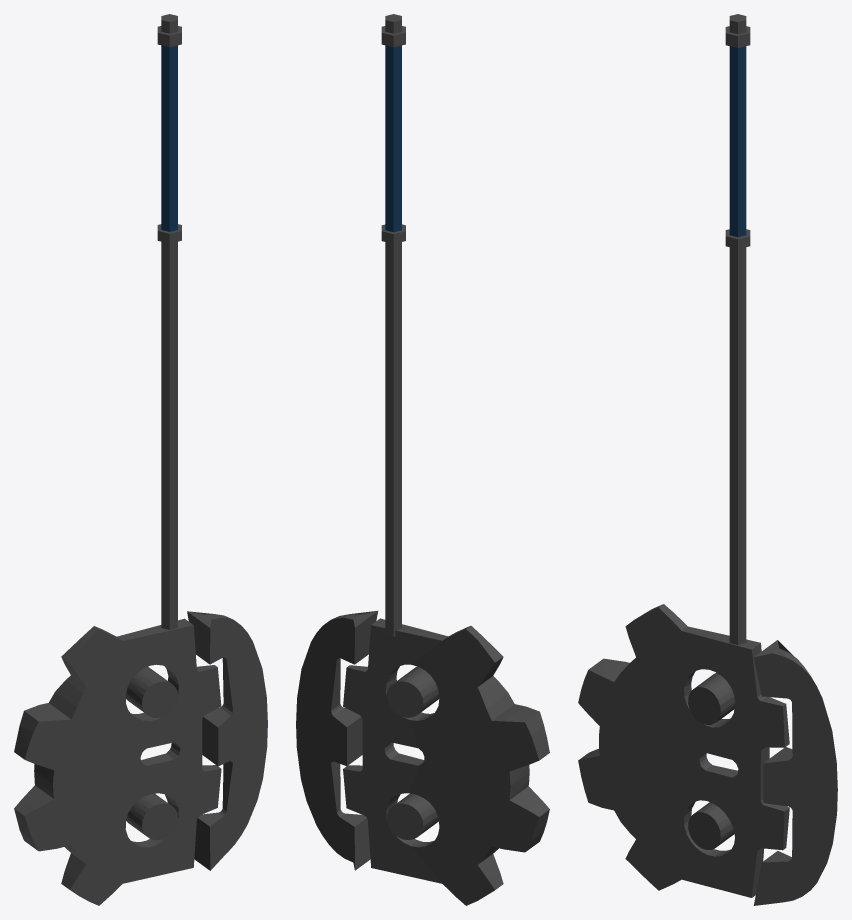
File: GodotAx.glb
3 views of the same model, side by side, from view 1: azimuth 30°, elevation 25°; view 2: azimuth 150°, elevation 25°; view 3: azimuth 330°, elevation 25° (orthographic). The views are drawn at different scales.
Visible parts, largest first — view 1: GodAx; view 2: GodAx; view 3: GodAx.
Boxes of the visible parts, x1=… form: GodAx: x1=14, y1=14, x2=267, y2=905; GodAx: x1=296, y1=14, x2=549, y2=905; GodAx: x1=578, y1=14, x2=837, y2=905.
Size of the model in its own units: 0.3685 by 1.23 by 0.0623.
